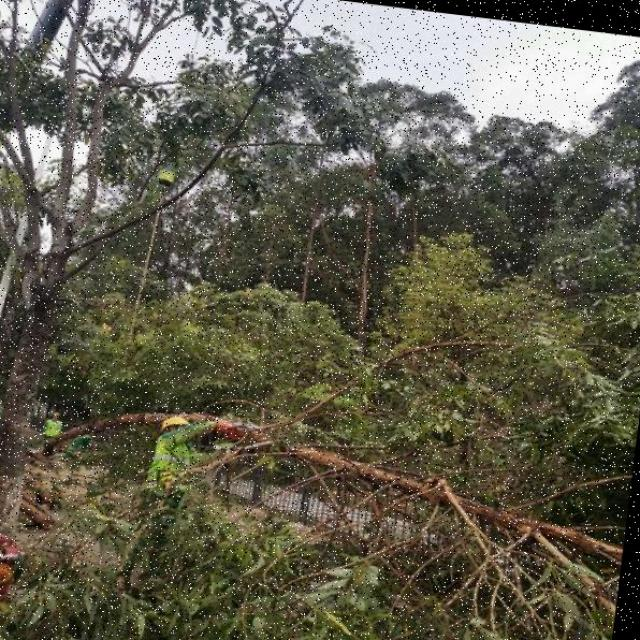fallen_object: (3, 392, 633, 558)
